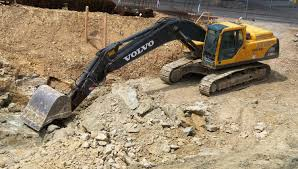excavator: (19, 16, 280, 131)
